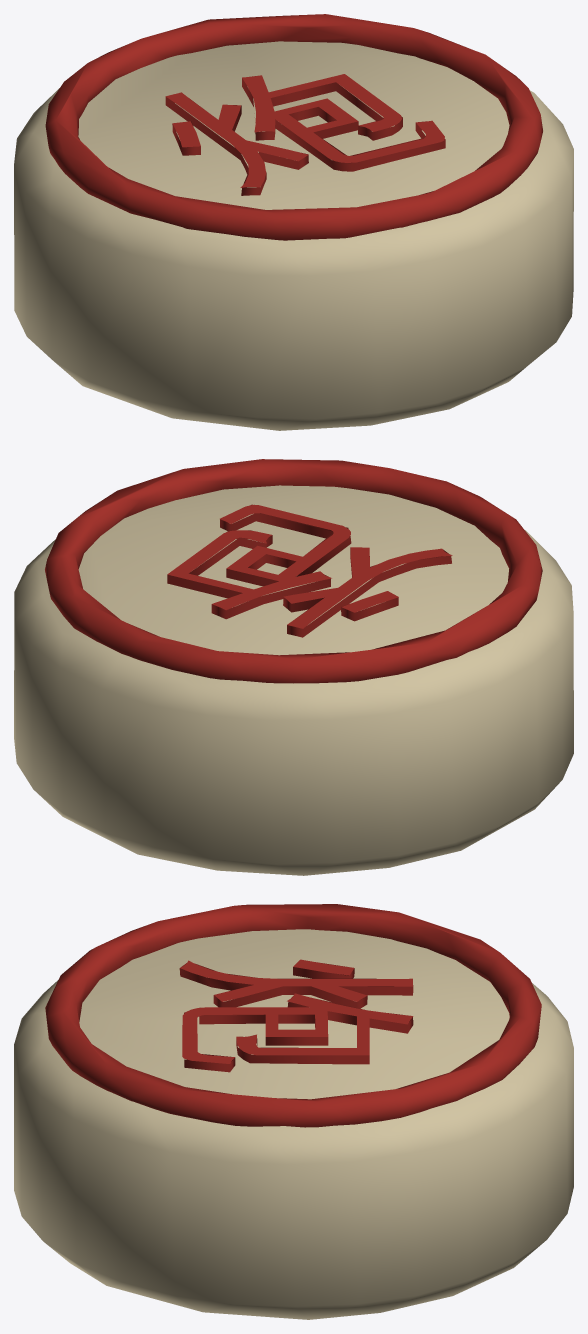
File: quan_do_phao.glb
3 views of the same model, one above another, from view 1: azimuth 30°, elevation 25°; view 2: azimuth 150°, elevation 25°; view 3: azimuth 270°, elevation 25° (orthographic).
Visible parts, largest first — view 1: quan_do_phao; view 2: quan_do_phao; view 3: quan_do_phao.
Boxes of the visible parts, x1,y1,x2,y2 form: quan_do_phao: (14, 14, 573, 430); quan_do_phao: (14, 459, 573, 875); quan_do_phao: (14, 904, 573, 1319).
Size of the model in its own units: 0.0367 by 0.0154 by 0.0366.
